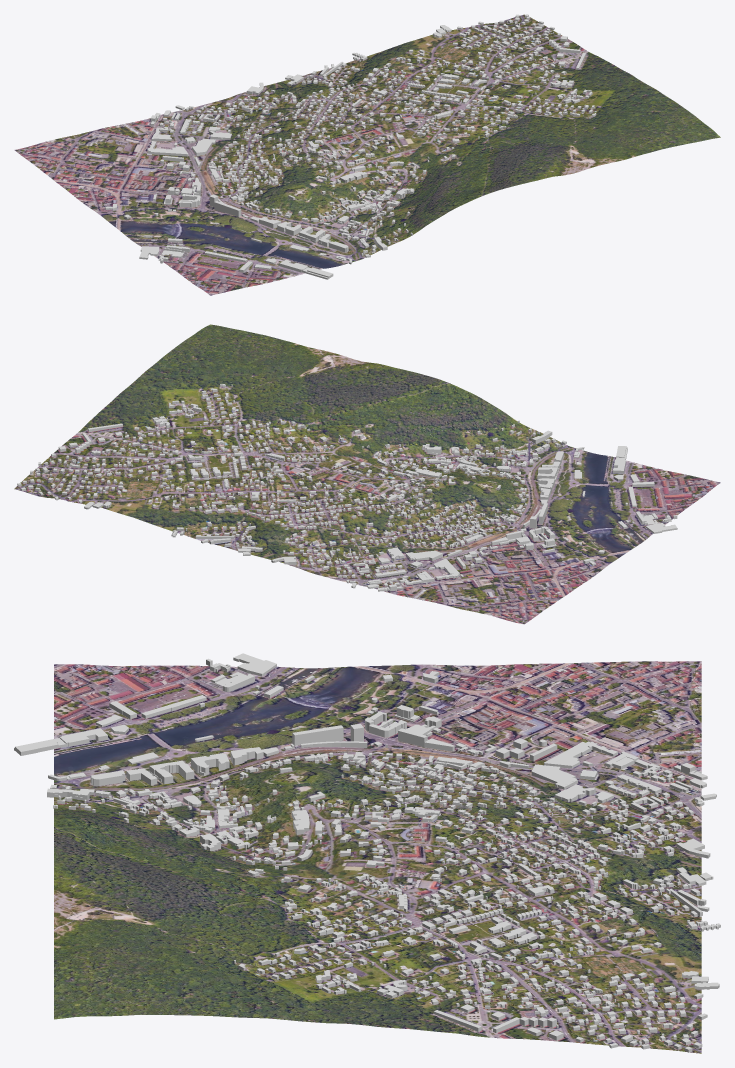
File: france-besancon-bregille.glb
3 views of the same model, one above another, from view 1: azimuth 30°, elevation 25°; view 2: azimuth 150°, elevation 25°; view 3: azimuth 270°, elevation 25° (orthographic). The views are drawn at different scales.
Parts seen in each view (by area): view 1: Terrain; view 2: Terrain; view 3: Terrain, 234277593, 33618326, 33607966, 54907546.
Boxes of the visible parts, box(x1,y1,x2,y2) form: Terrain: box(14, 14, 720, 295); Terrain: box(14, 324, 720, 624); Terrain: box(54, 661, 701, 1053); 234277593: box(544, 741, 617, 768); 33618326: box(292, 725, 343, 745); 33607966: box(149, 760, 194, 784); 54907546: box(531, 764, 577, 789).
Size of the model in its own units: 2843 by 205 by 2003.
1 material, 1 textured.
